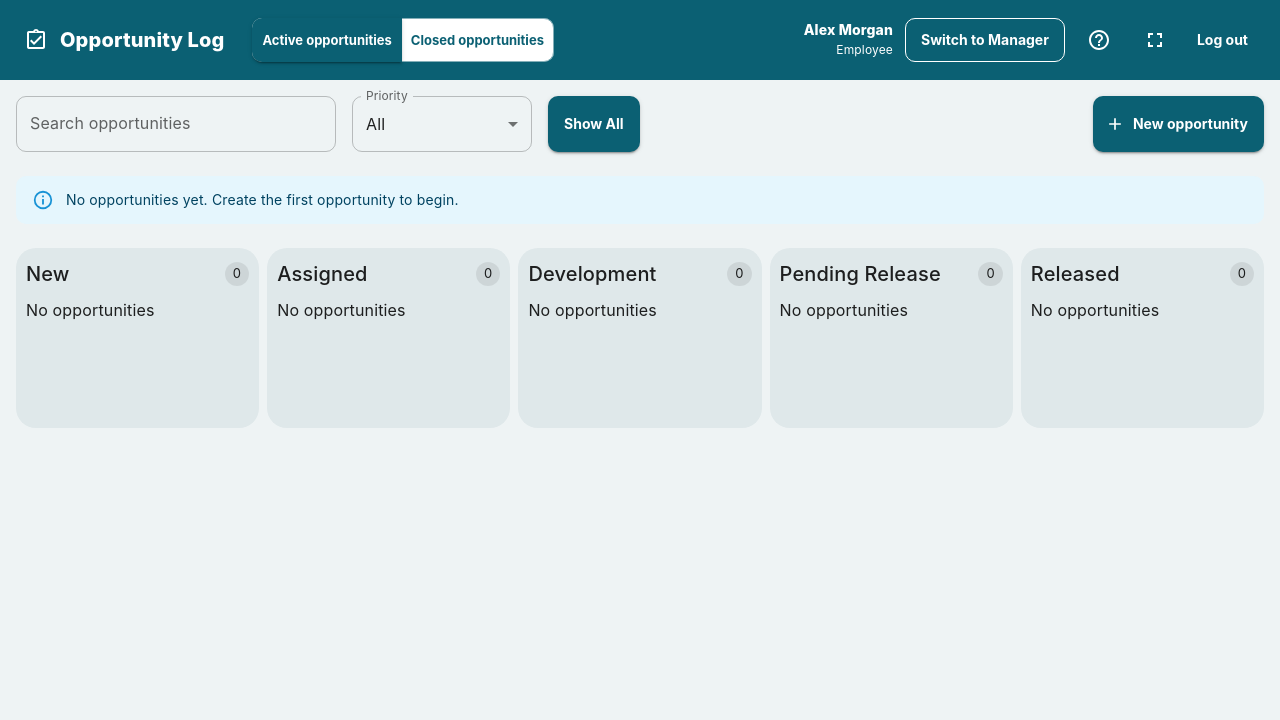
it: login and application shell › explains when fullscreen is unavailable and leaves the app unchanged
The image size is (1280, 720).
Click the button named "enter fullscreen". click: (1155, 40)
box: top-left (1133, 18), bottom-right (1177, 62)
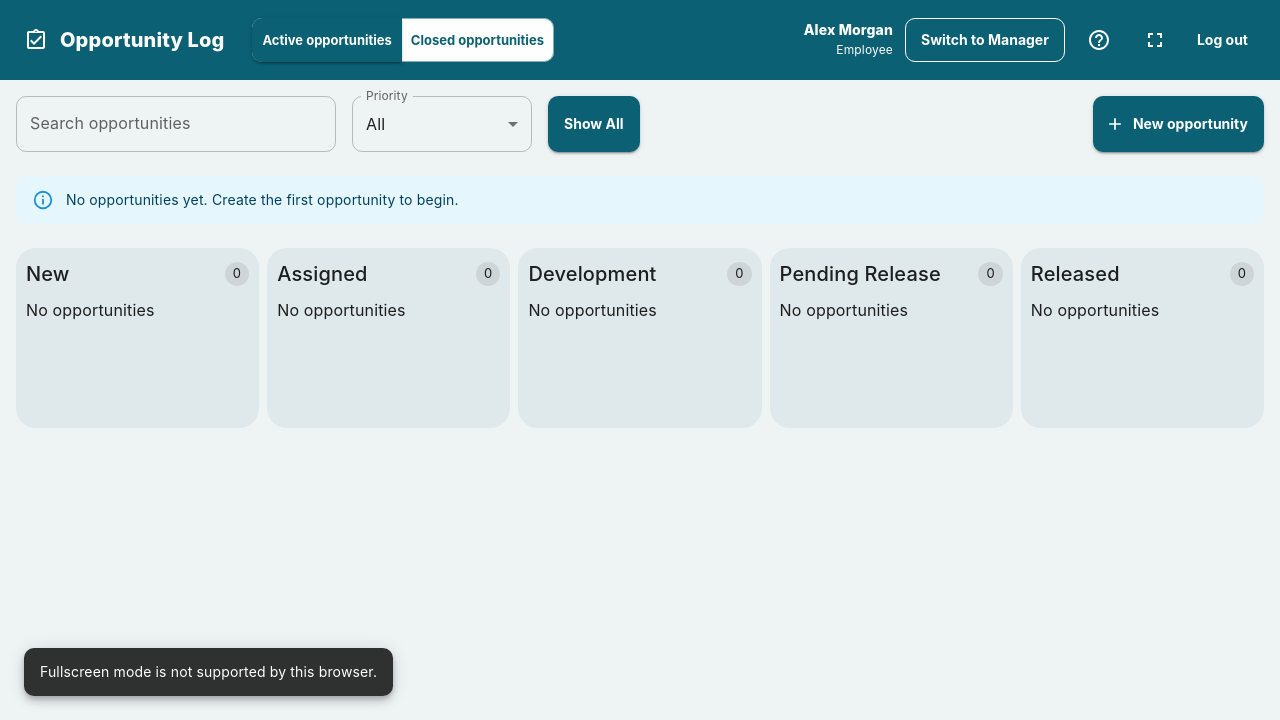
Expected: the text "Fullscreen mode is not supported by this browser." is shown, top-left (40, 663), bottom-right (377, 680)
